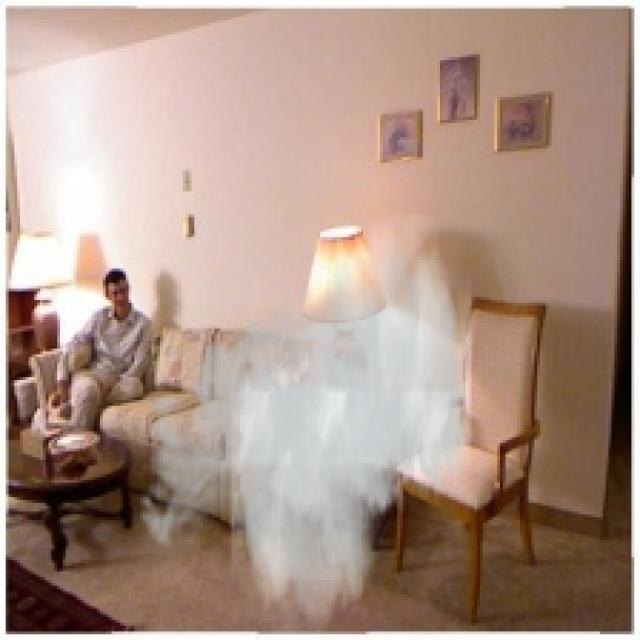Smoke: (128, 214, 474, 637)
